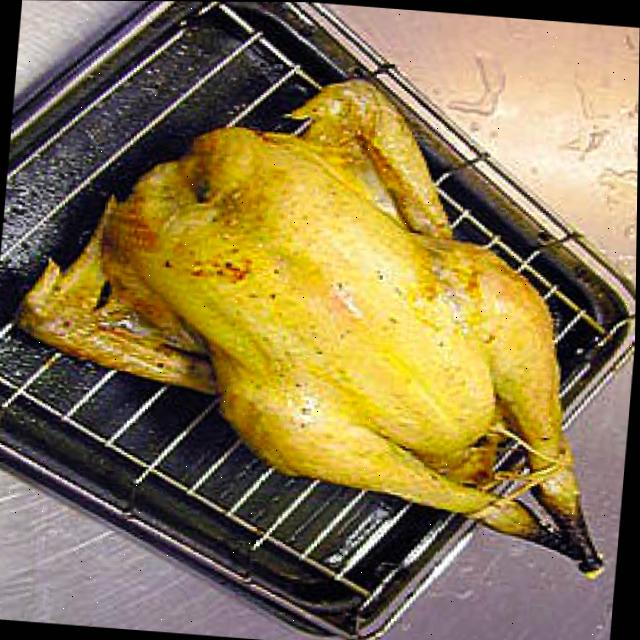鸡肉料理 含炸鸡: (0, 48, 639, 593)
